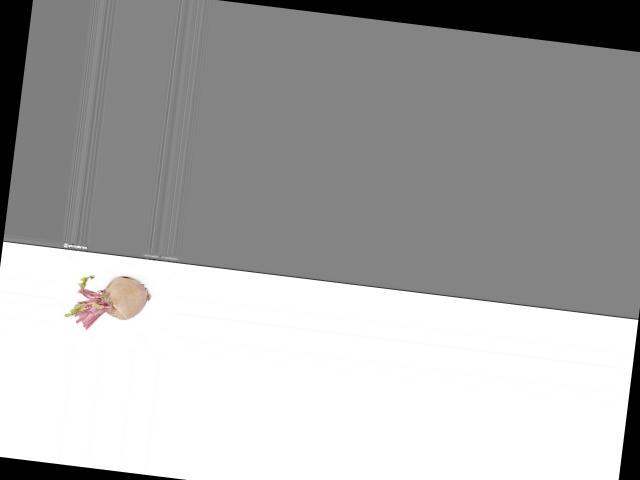beet: (63, 269, 153, 336)
